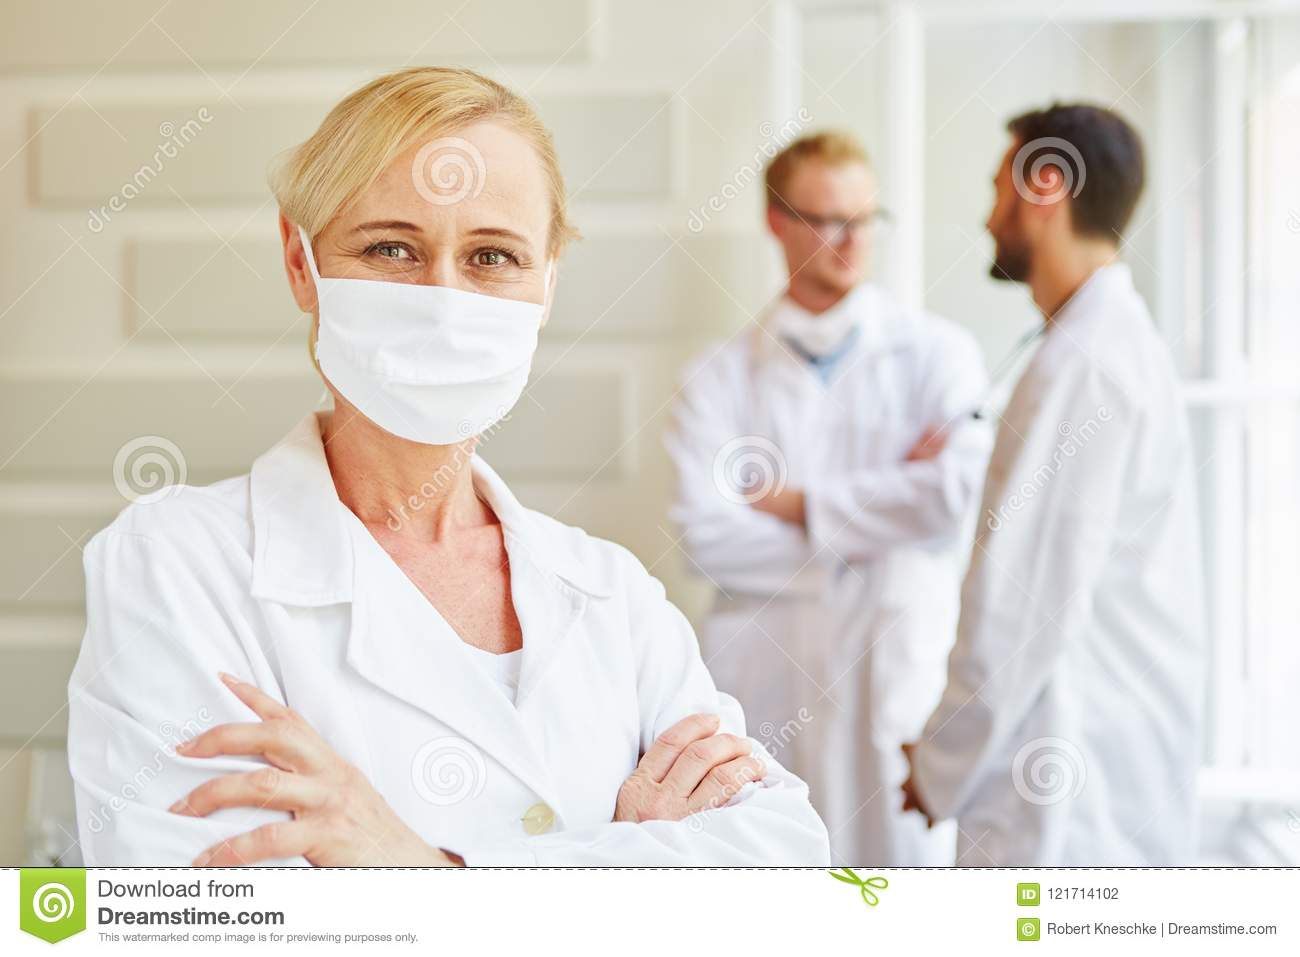mask: (301, 274, 556, 451)
